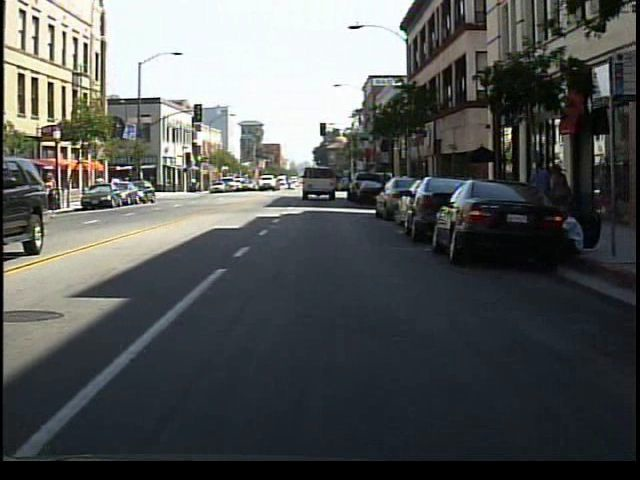person: (526, 152, 552, 228), (546, 158, 570, 224)
